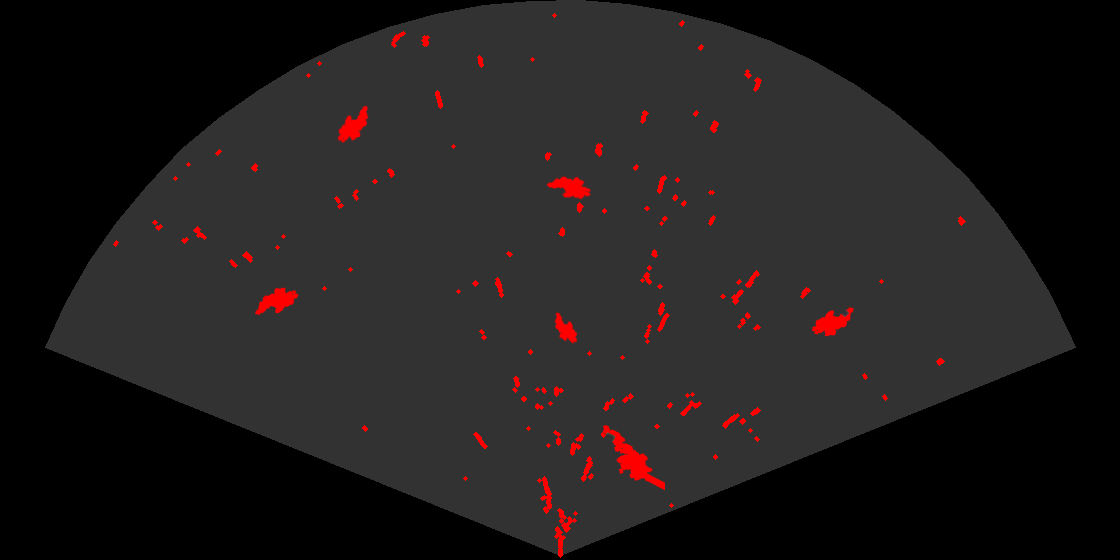AUV: (253, 286, 300, 317), (810, 306, 855, 338), (336, 104, 370, 145), (545, 175, 593, 201), (553, 311, 579, 345)
frogman: (601, 423, 665, 492)
